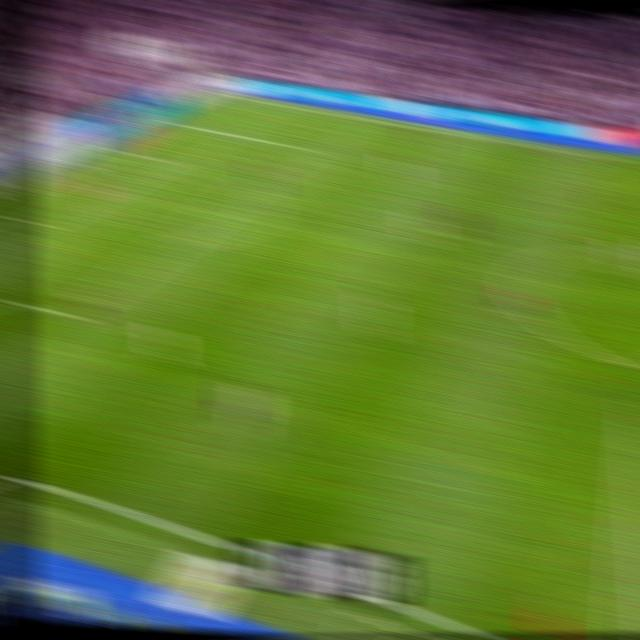bigarea_bottom_inner: (57, 305, 84, 328)
bigarea_top_inner: (289, 138, 314, 156)
bigarea_top_outter: (159, 112, 185, 128)
bottom_arc_area_intersection: (158, 232, 188, 252)
corner: (213, 89, 239, 101)
halfcircle_bottom: (627, 353, 640, 381)
smallarea_bottom_inner: (25, 212, 52, 234)
smallarea_top_inner: (146, 151, 171, 165)
top_arc_area_intersection: (238, 175, 264, 192)
